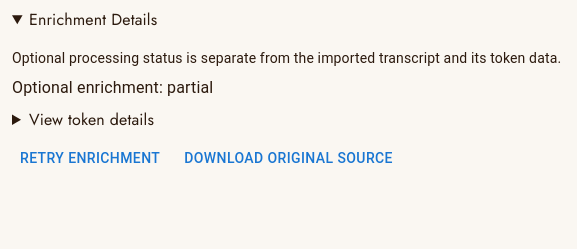
it: shows returned/thrown retry errors without an unhandled rejection (throws=true)
Click the button "Retry Enrichment" at {"x": 90, "y": 158}, box [12,140,168,176]
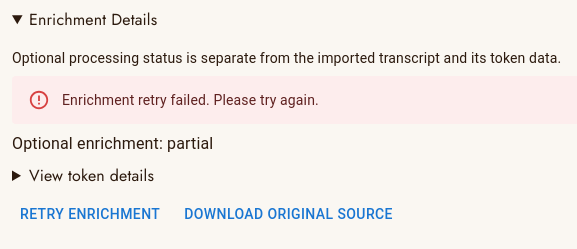
Expected: the button "Retry Enrichment" is enabled, [12,196,168,232]
Result: the text "Enrichment retry failed." is shown at [62,92,319,108]
